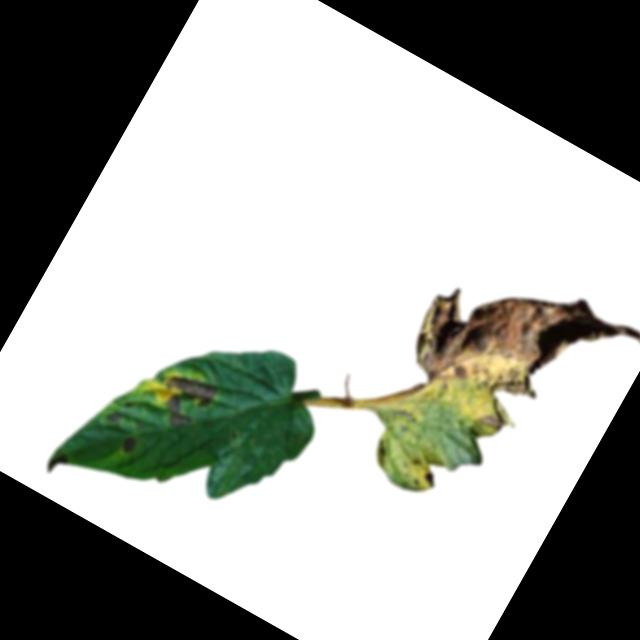Early_blight: (390, 232, 640, 480), (148, 361, 222, 438), (42, 447, 70, 479), (118, 430, 142, 457), (422, 467, 442, 488), (103, 406, 124, 425)
